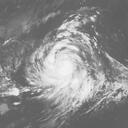cyclone: (33, 43, 93, 101)
